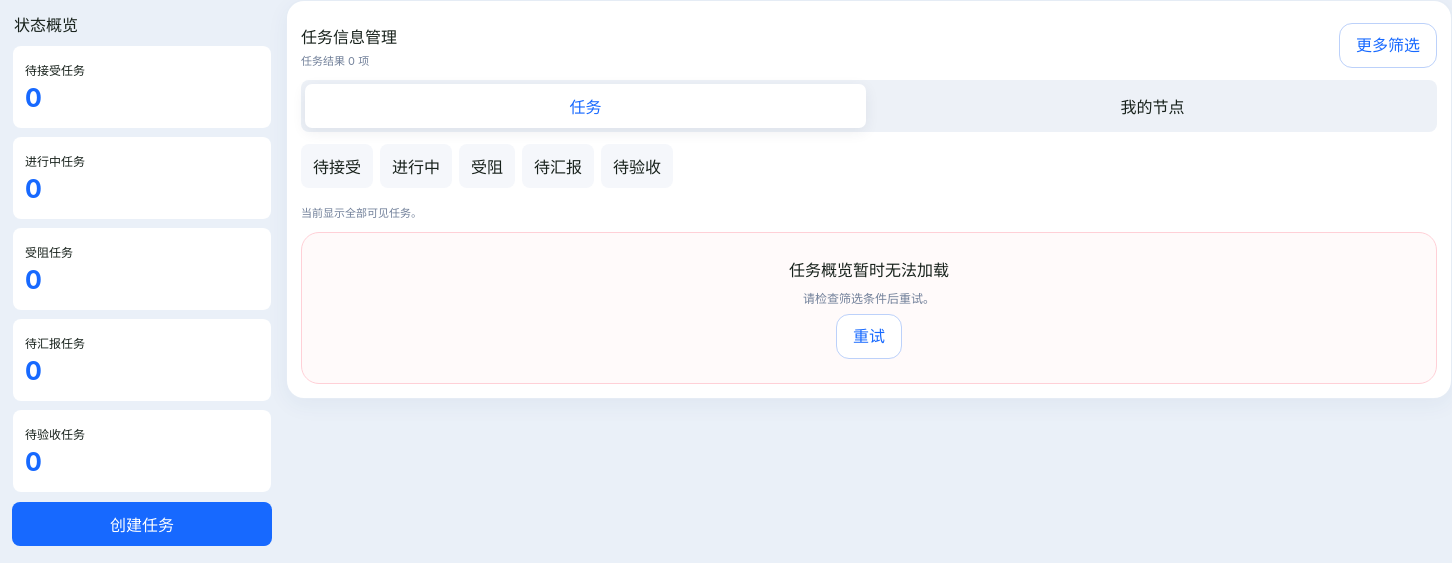
it: TaskOverviewPage › shows error state and retries
Expected: the text "任务概览暂时无法加载" is shown, left=789, top=257, right=949, bottom=281
Click the button "重试".
click(869, 337)  # box left=836, top=314, right=902, bottom=359
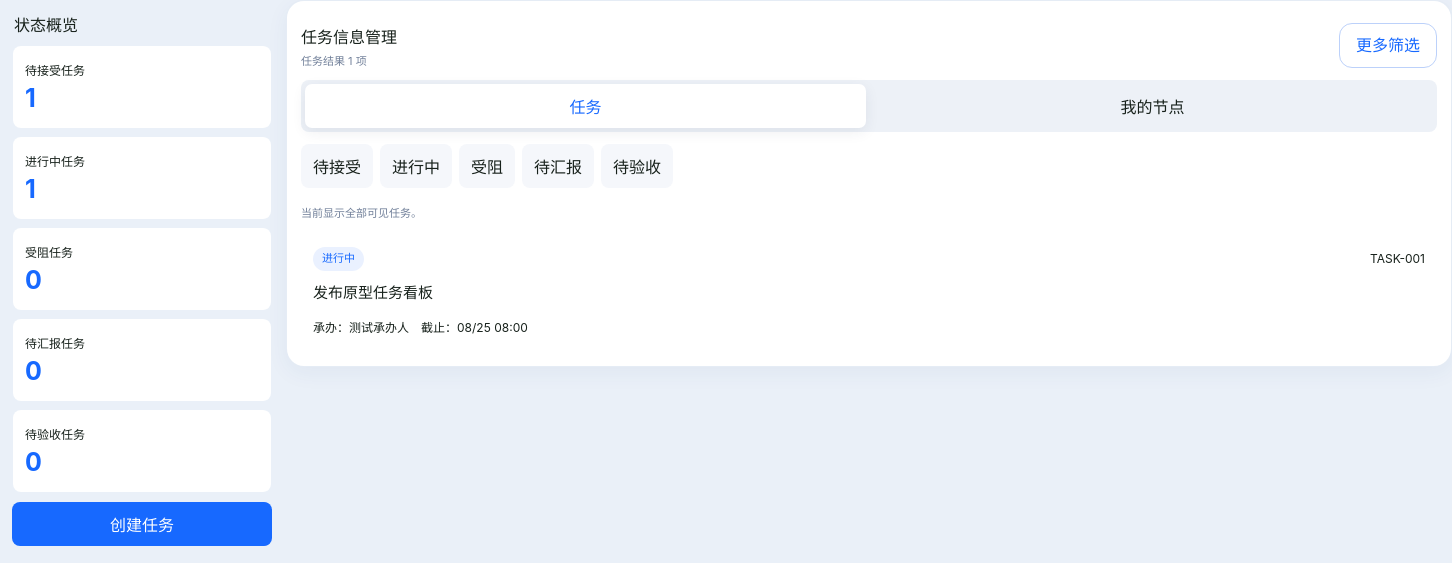
Now the text "发布原型任务看板" is shown, box left=313, top=283, right=433, bottom=302
